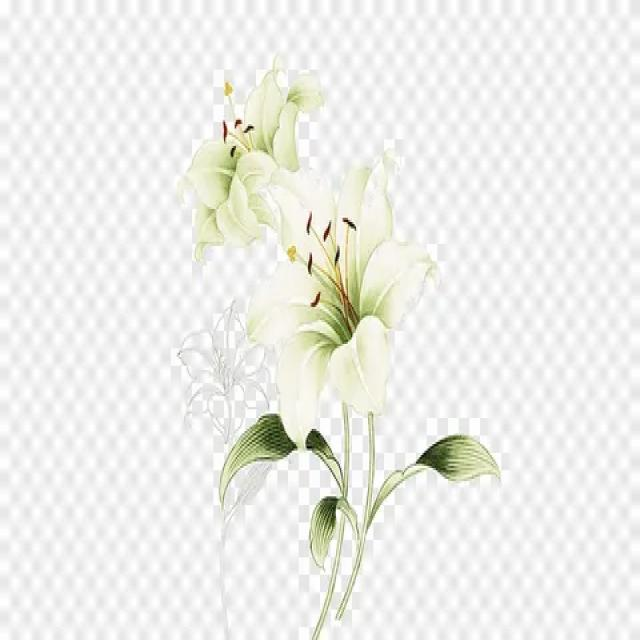lily: (249, 131, 446, 452)
